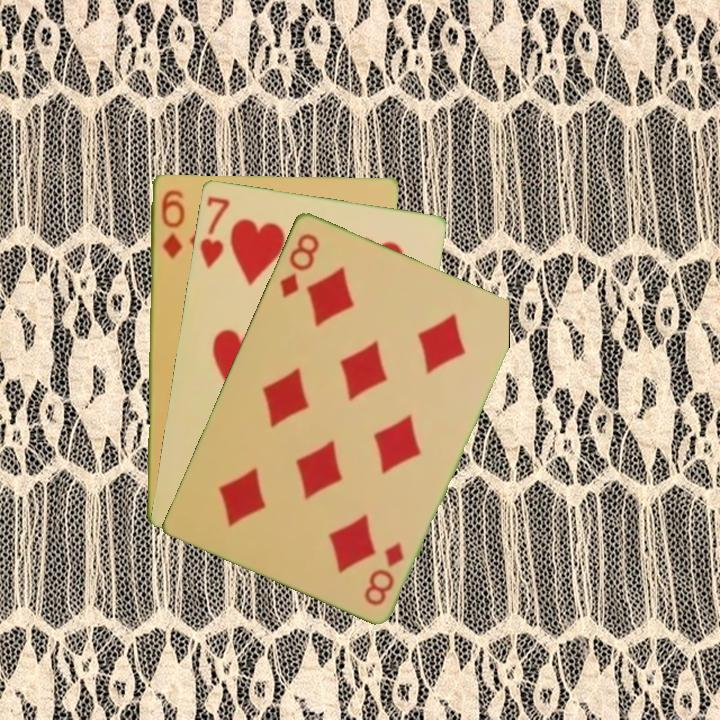6d: (157, 186, 187, 261)
7h: (196, 192, 233, 271)
8d: (360, 537, 407, 608), (276, 229, 322, 300)
